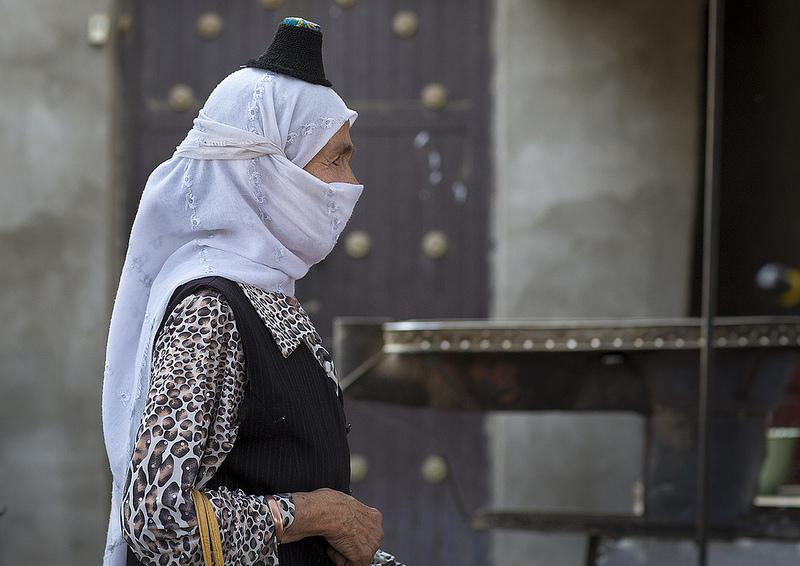WRONG: (272, 121, 364, 240)
